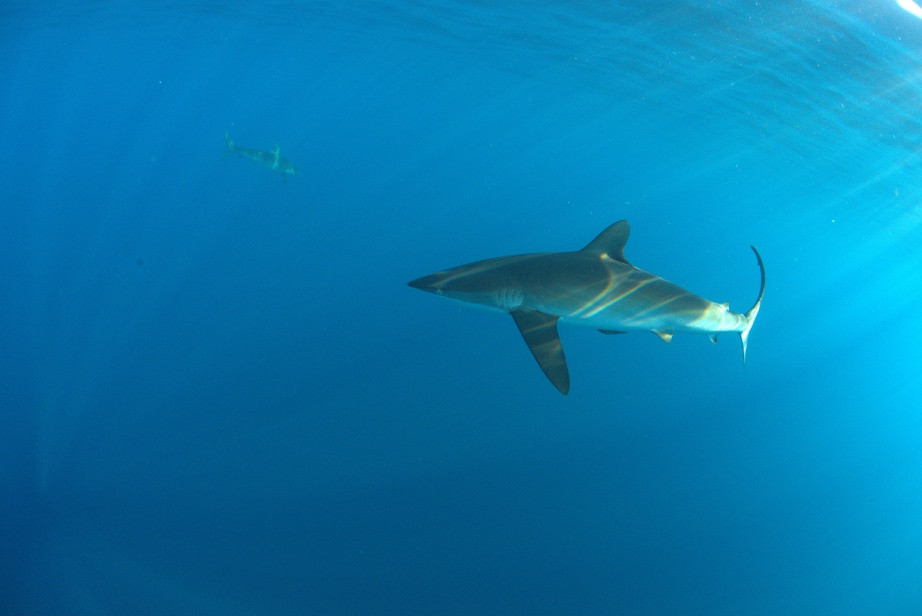Sedoso: (358, 216, 804, 397)
